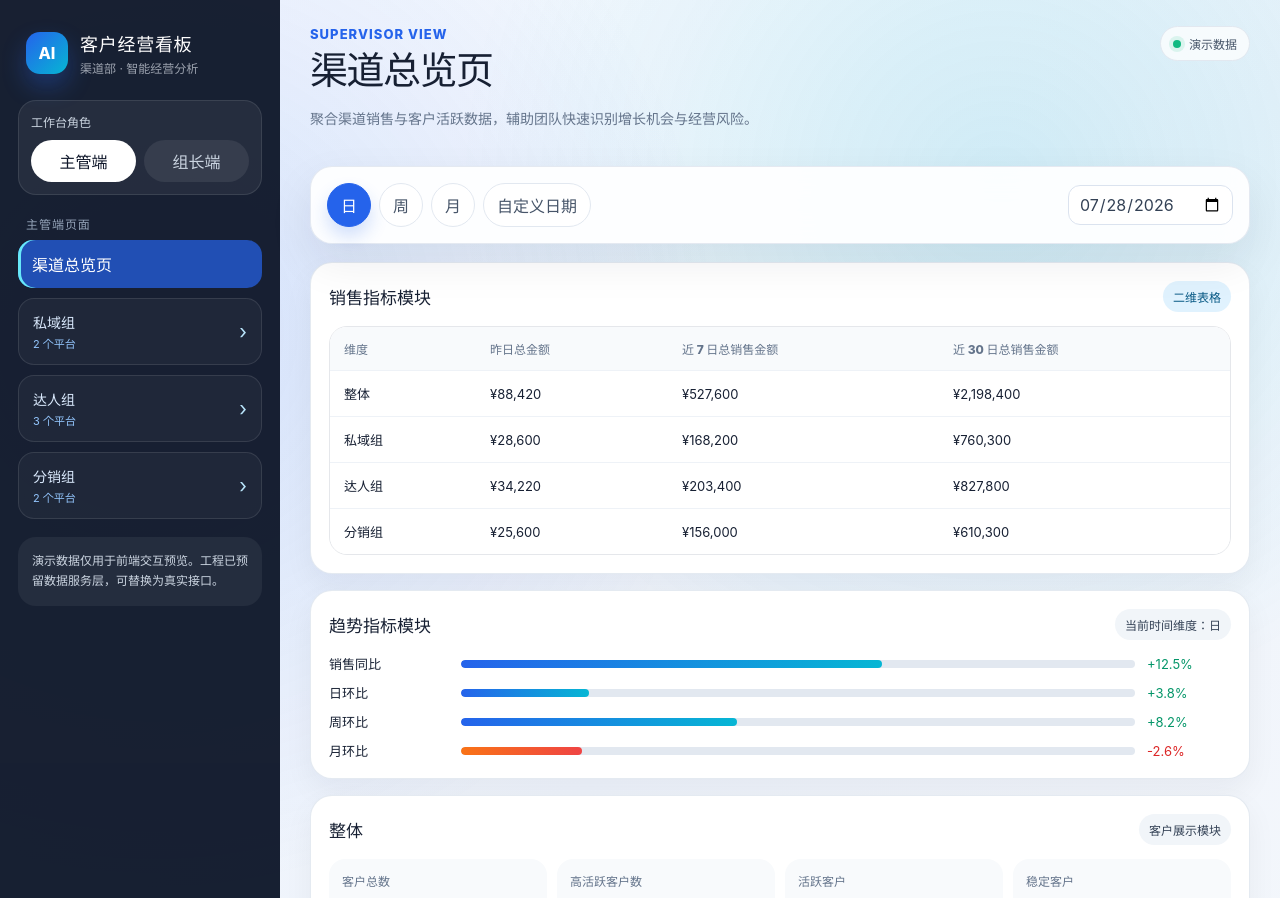
customer dashboard › opens a customer list and filters by name
Click the button "私域组 2 个平台 ›".
click(140, 332)  # box [19, 299, 261, 364]
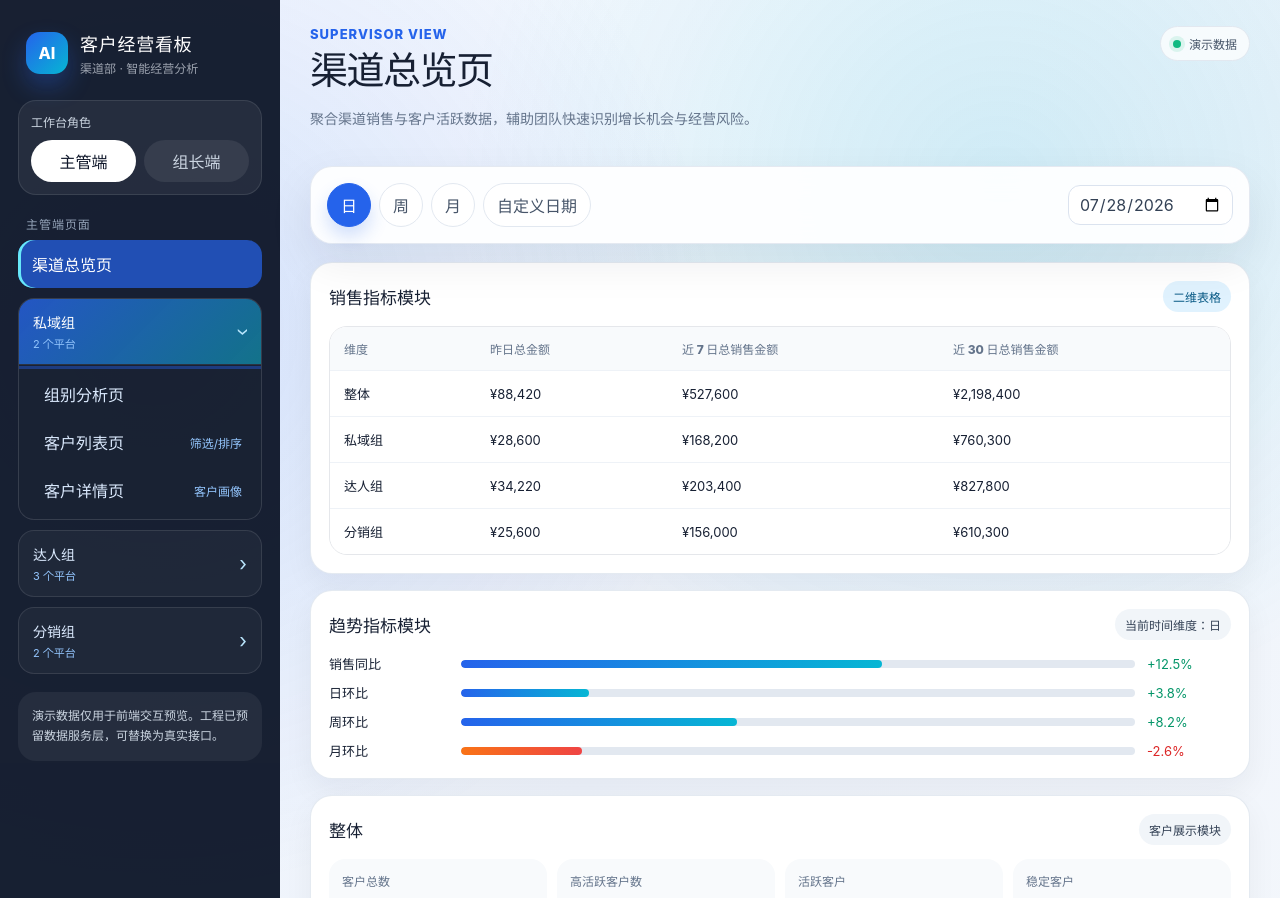
Click the button "客户列表页 筛选/排序".
click(140, 442)  # box [26, 420, 254, 464]
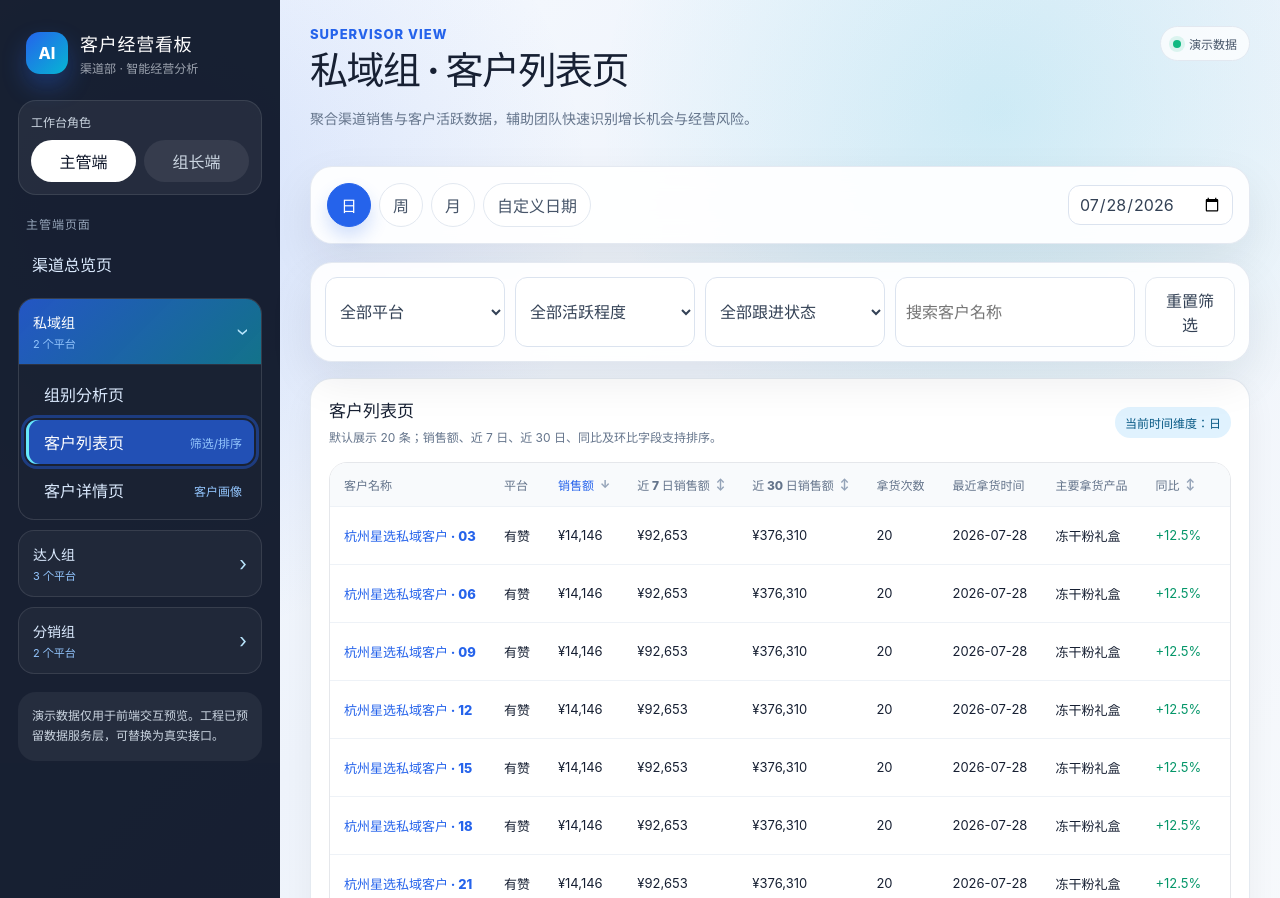
Type "杭州" into the field labelled "搜索客户名称".
click(1015, 312); type("杭州")  # box [895, 278, 1135, 348]
(page scrolled)
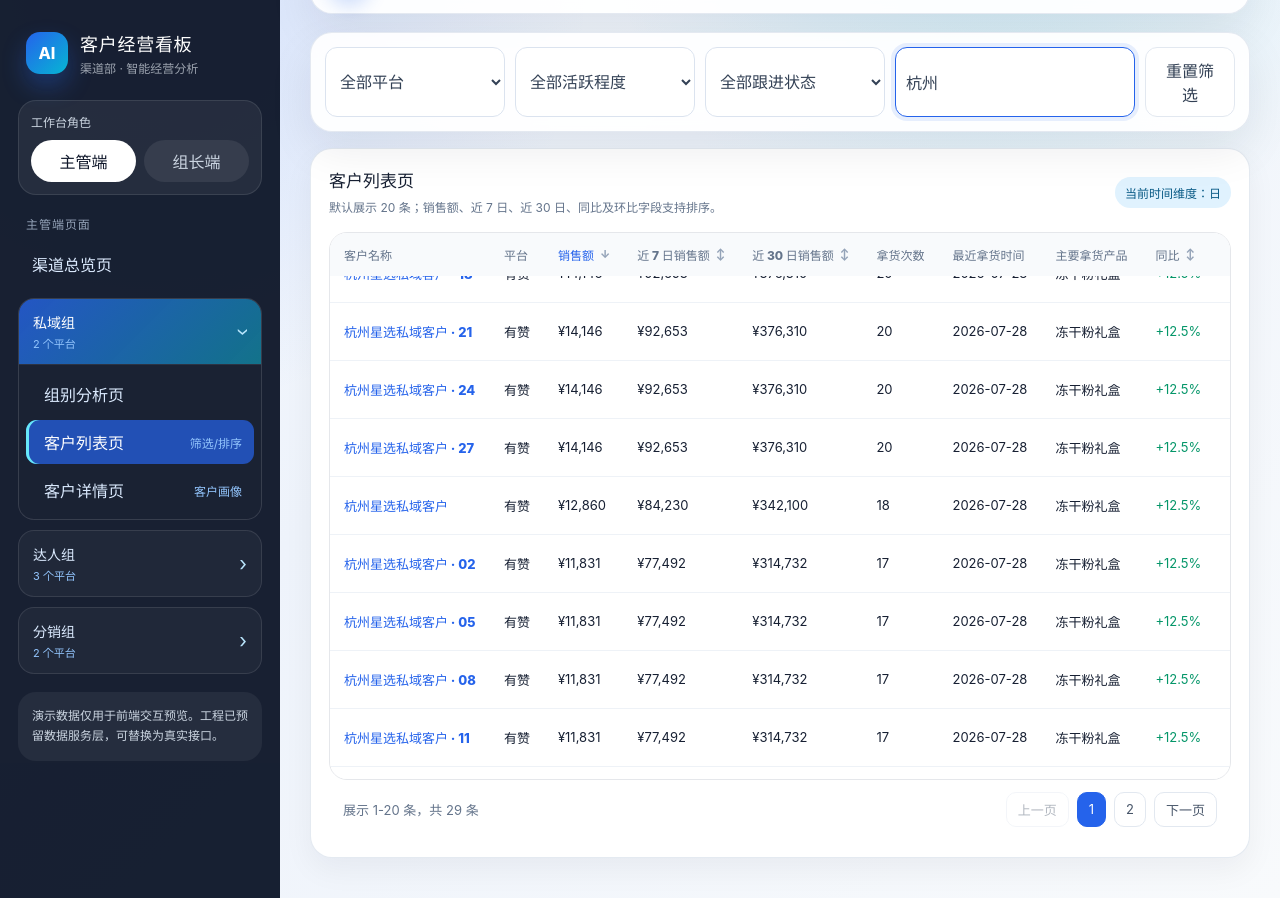
Click the button "杭州星选私域客户".
click(396, 505)  # box [344, 496, 448, 515]
(page scrolled)
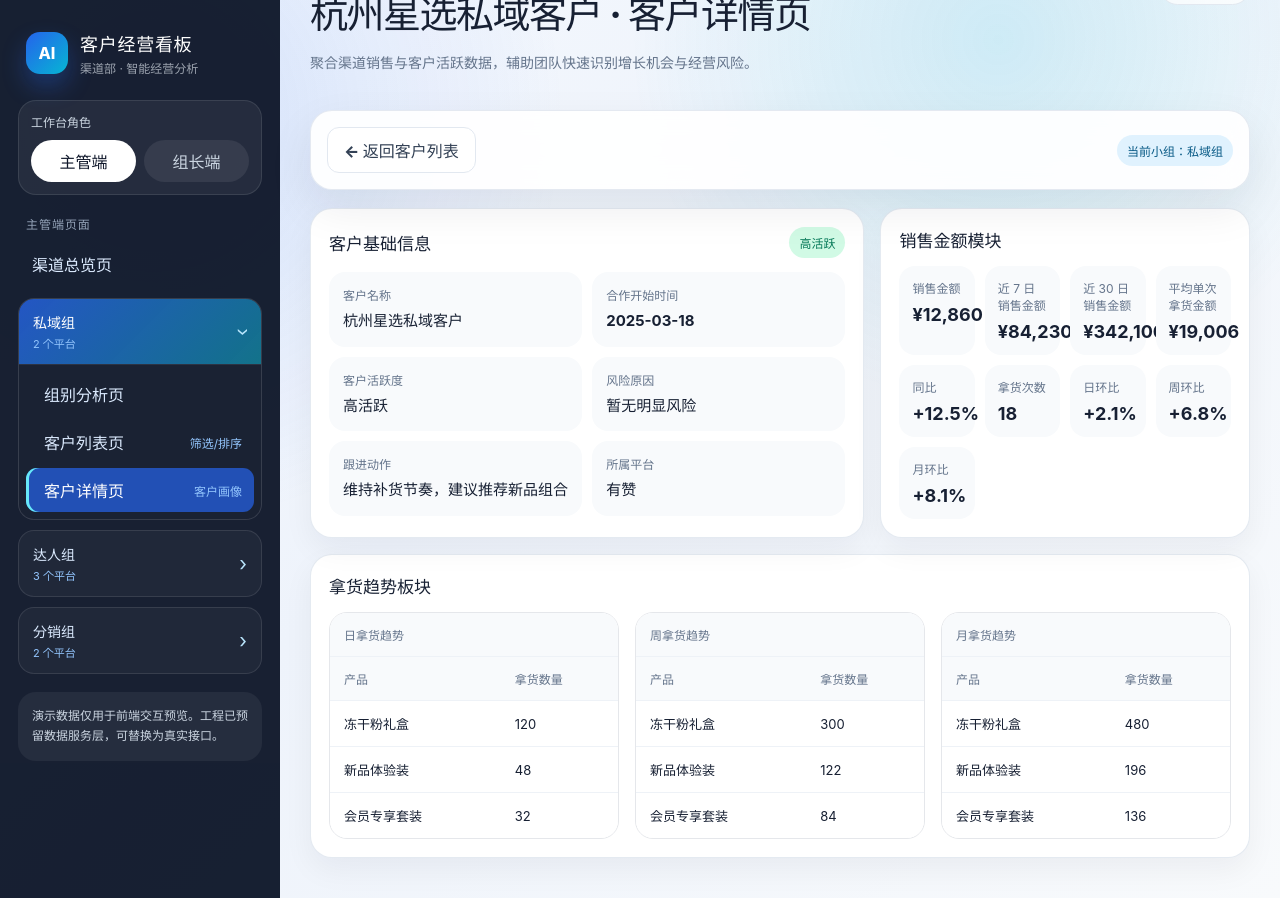
Expected: the text "冻干粉礼盒" next to "120" is shown, [344, 716, 409, 732]
Click the button "← 返回客户列表".
click(401, 150)  # box [327, 128, 476, 174]
(page scrolled)
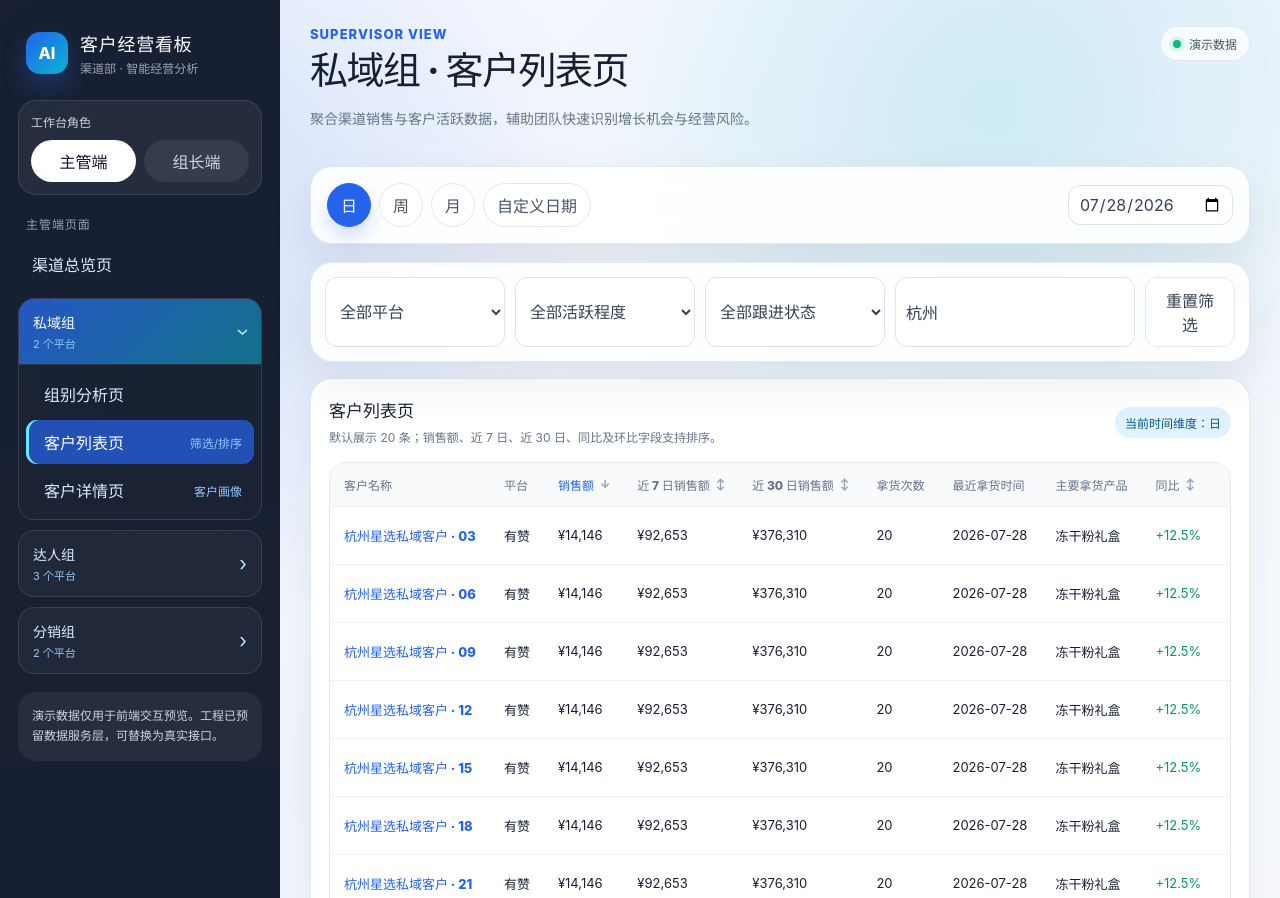
Expected: the heading "私域组 · 客户列表页" is shown, [310, 47, 628, 93]
